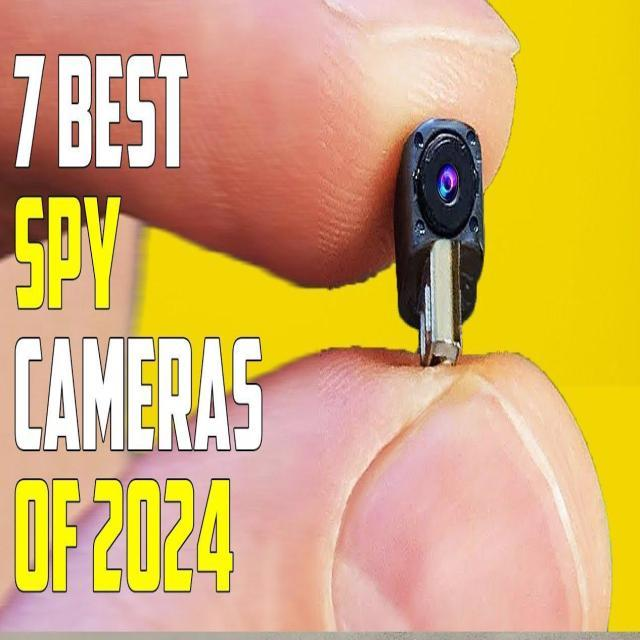hidden camera: (411, 126, 480, 239)
